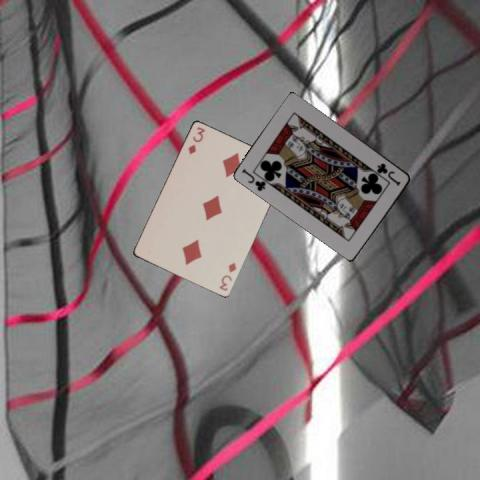3d: (185, 124, 206, 157), (217, 259, 237, 293)
Jc: (239, 165, 268, 193), (375, 160, 402, 187)
